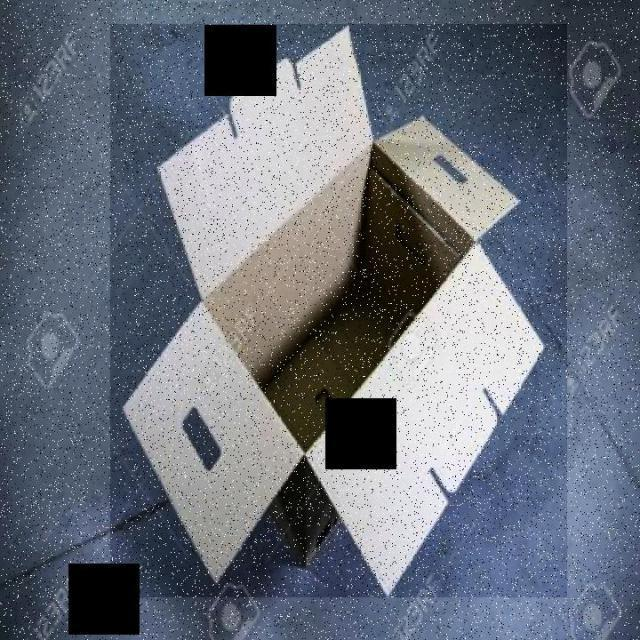box: (110, 24, 568, 598)
